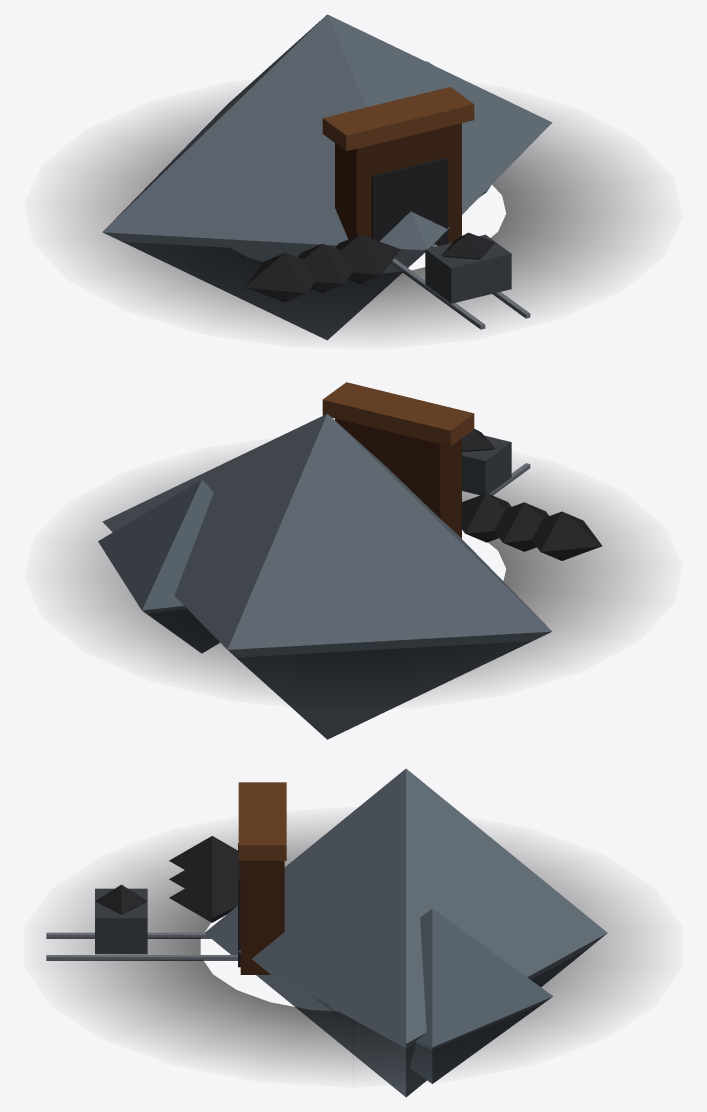
Rendered from coal_mine_t1.glb.
3 views of the same model, one above another, from view 1: azimuth 30°, elevation 25°; view 2: azimuth 150°, elevation 25°; view 3: azimuth 270°, elevation 25° (orthographic).
Visible parts, largest first — view 1: coal_mine_t1; view 2: coal_mine_t1; view 3: coal_mine_t1.
Part boxes in pixels (x1=…): coal_mine_t1: x1=65, y1=14, x2=641, y2=340; coal_mine_t1: x1=65, y1=382, x2=641, y2=739; coal_mine_t1: x1=46, y1=768, x2=641, y2=1097.
Size of the model in its own units: 7.82 by 4.14 by 7.74.
